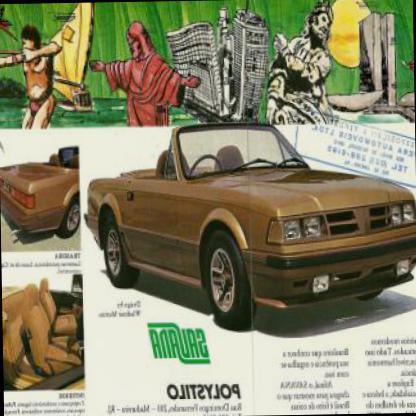car: (79, 119, 415, 337), (2, 274, 84, 392), (0, 142, 81, 238)
